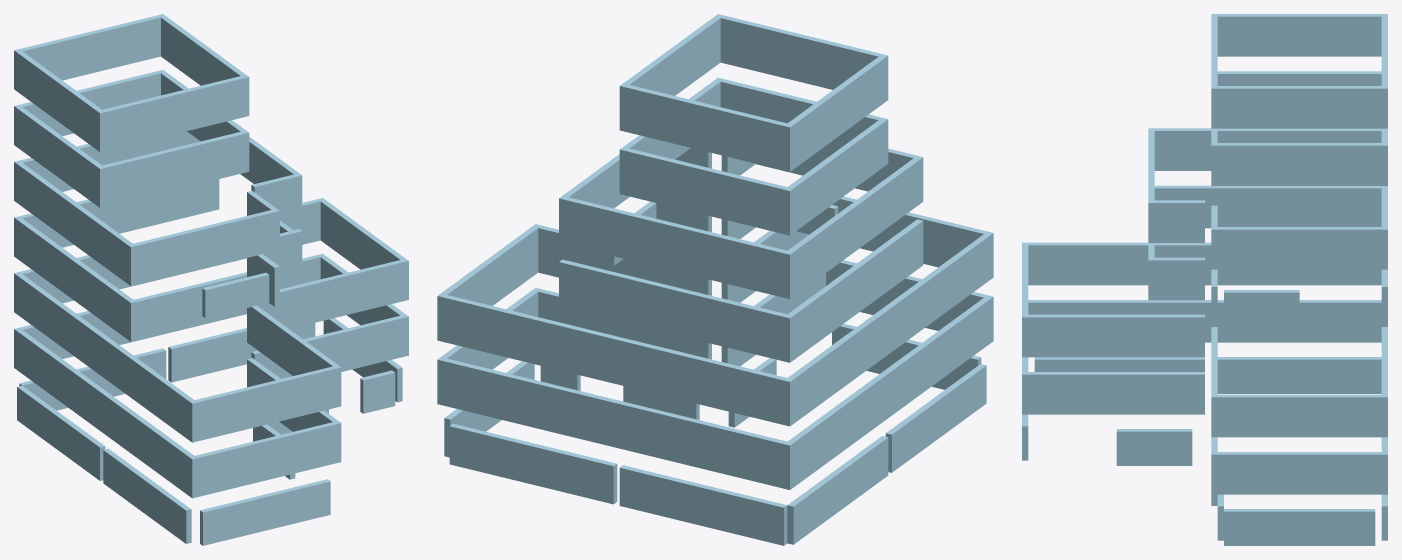
The model's file is building_big_5_reflections.obj.
The picture shows the model from 3 angles, left to right: view 1: azimuth 30°, elevation 25°; view 2: azimuth 150°, elevation 25°; view 3: azimuth 270°, elevation 25°; orthographic projection. The views are drawn at different scales.
Size of the model in its own units: 5.8 by 6.6 by 5.8.
1 material, 1 textured.
